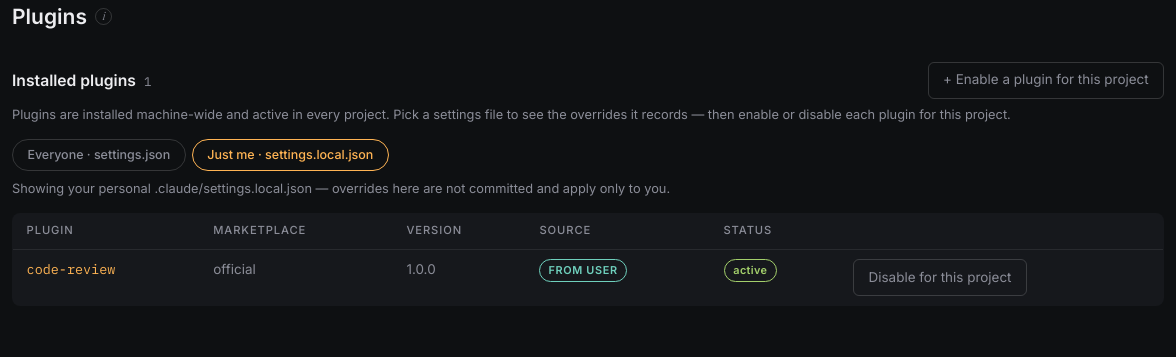
Test case: Plugins view › Project scope shows each settings file’s own overrides under its pill
Expected: the text "superpowers" is not shown
Expected: the text "code-review" is shown, [12,250,200,305]
Note: the shared "Everyone" file records nothing → superpowers is active again there
Click the button "Everyone · settings.json" at [99, 155], box [12,139,186,171]
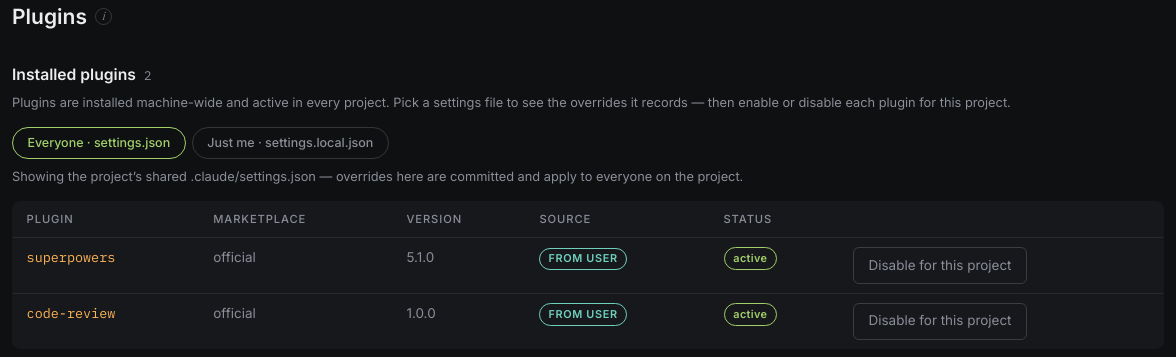
Expected: the text "superpowers" is shown, [12,238,200,293]
